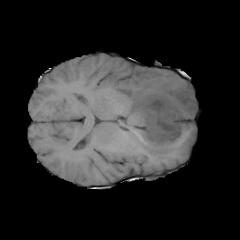glioma: (113, 67, 196, 157)
